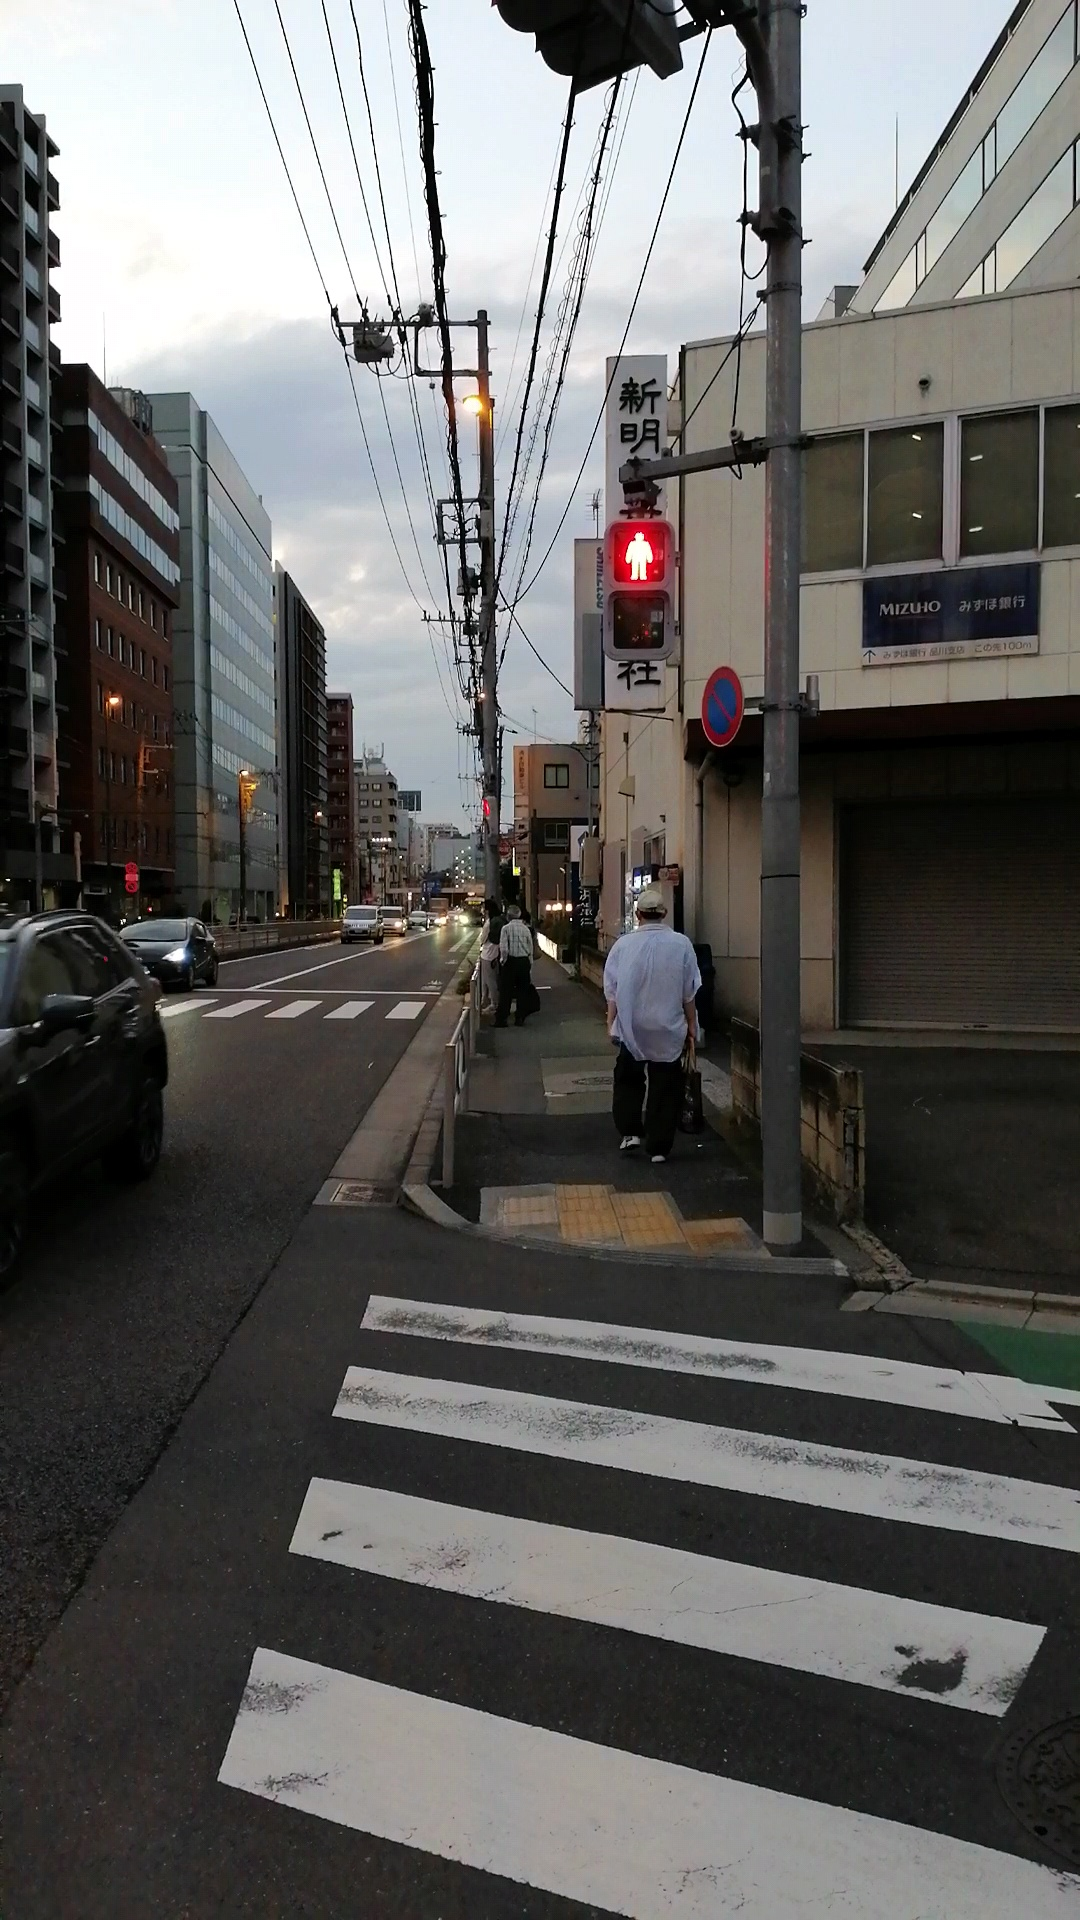red: (605, 520, 675, 661)
